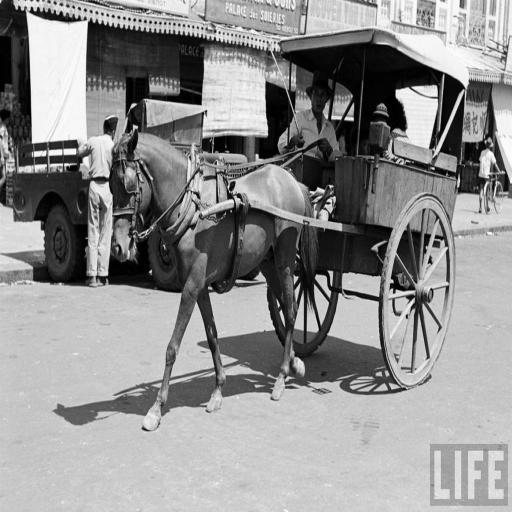Horse: (109, 128, 321, 432)
